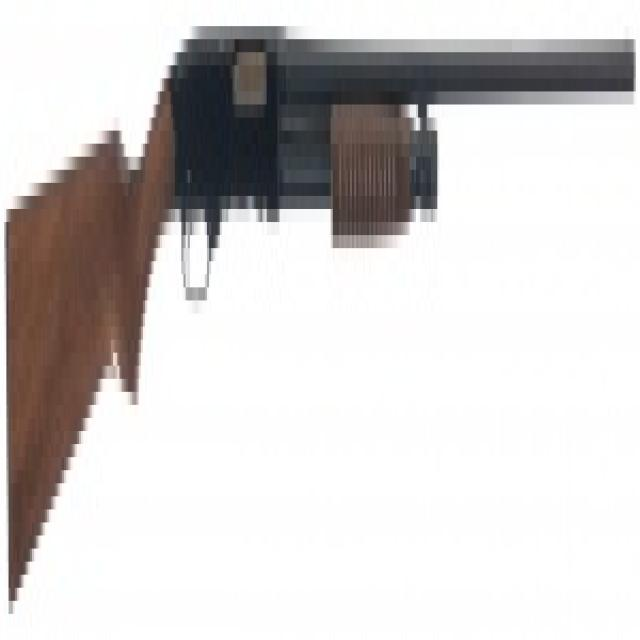rifle: (3, 13, 638, 621)
